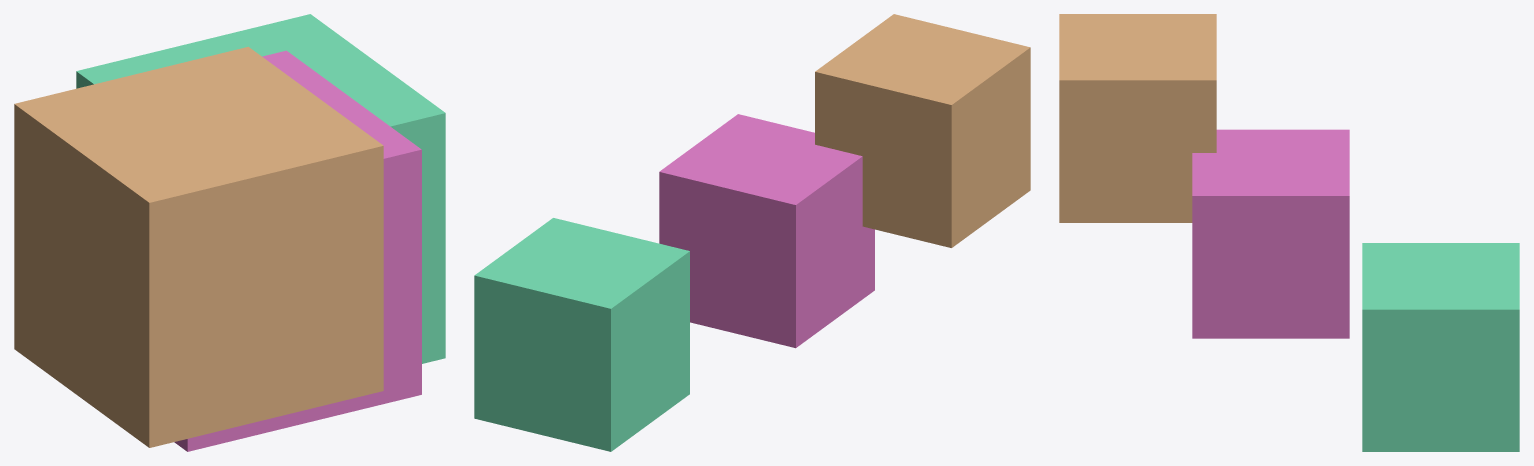
The picture shows the model from 3 angles, left to right: view 1: azimuth 30°, elevation 25°; view 2: azimuth 150°, elevation 25°; view 3: azimuth 270°, elevation 25°; orthographic projection. The views are drawn at different scales.
Visible parts, largest first — view 1: Cube.002, Cube.001, Cube; view 2: Cube.001, Cube.002, Cube; view 3: Cube.001, Cube, Cube.002.
Boxes of the visible parts, x1,y1,x2,y2 form: Cube.002: (14,46,383,447); Cube.001: (76,14,445,363); Cube: (174,50,421,451); Cube.001: (474,218,689,451); Cube.002: (815,14,1030,247); Cube: (659,114,874,348); Cube.001: (1362,243,1519,451); Cube: (1192,129,1349,338); Cube.002: (1059,14,1216,222).
Size of the model in its own units: 4.76 by 3.93 by 5.86.
